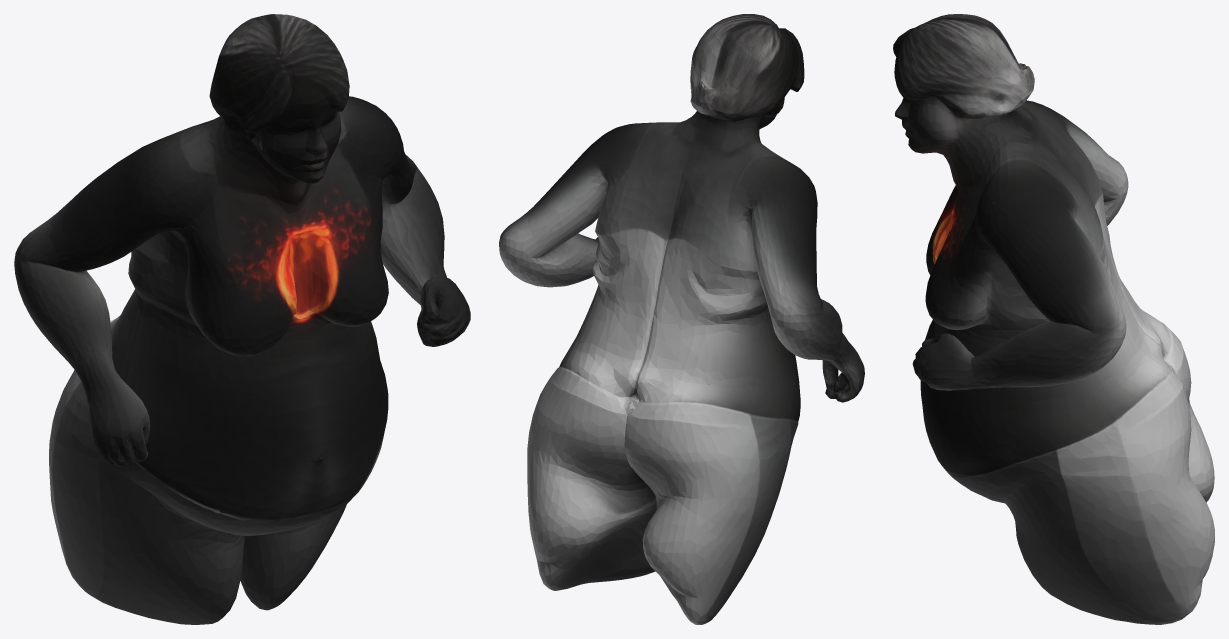
The model's file is Pain.glb.
3 renders of one model, left to right at view 1: azimuth 30°, elevation 25°; view 2: azimuth 150°, elevation 25°; view 3: azimuth 270°, elevation 25°, orthographic. The views are drawn at different scales.
Parts seen in each view (by area): view 1: world; view 2: world; view 3: world.
Part boxes in pixels (box(x1,y1,x2,y2)): world: box(14, 14, 470, 624); world: box(499, 14, 864, 624); world: box(893, 14, 1214, 624).
Size of the model in its own units: 0.6469 by 0.9973 by 0.5156.
1 material, 1 textured.
